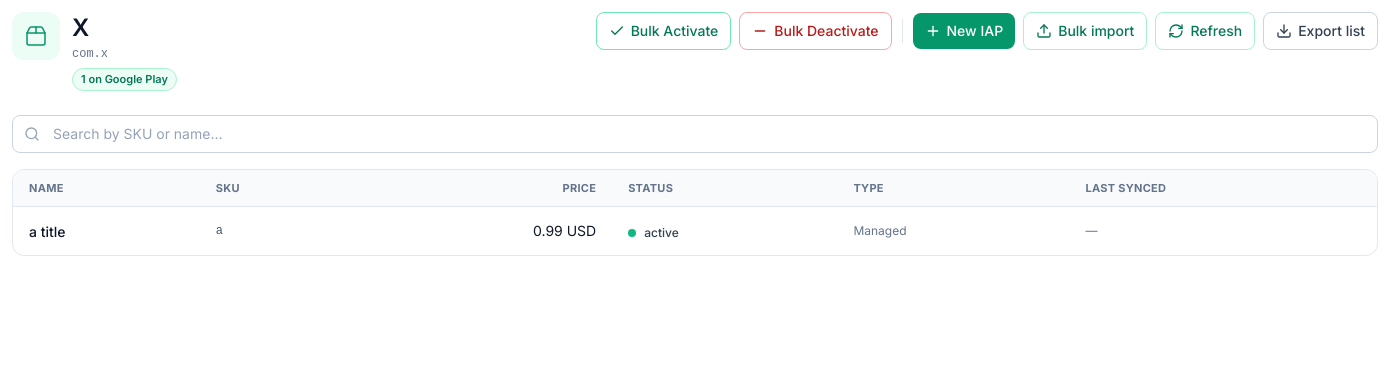
Test case: IapListClient — Refresh that did not count as complete › a complete refresh AFTER an incomplete one clears the old warning (no stale amber)
This screenshot has width=1390, height=381.
Click the button "Refresh" at (1205,31), box x1=1155 y1=12 x2=1255 y2=50
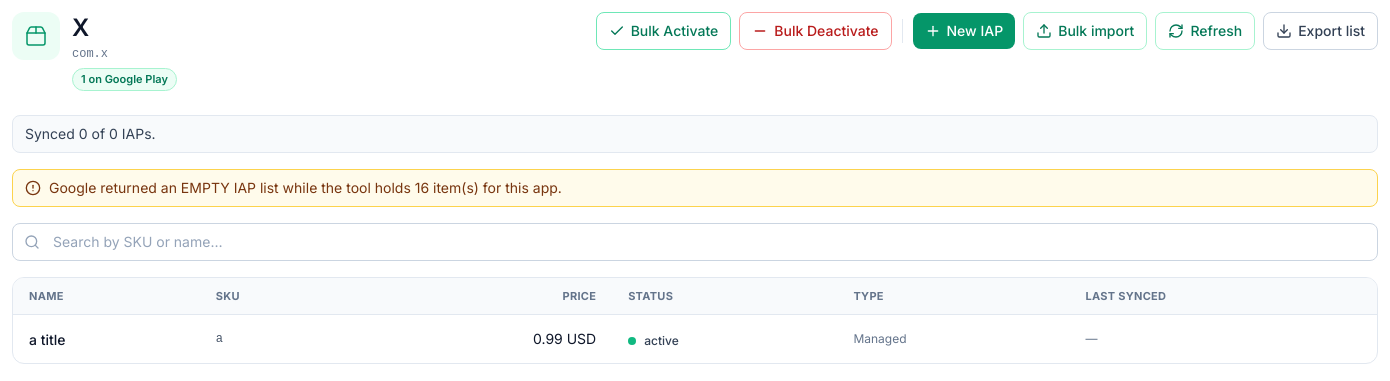
Check: the element with test id "refresh-mirror-warning" is shown, box x1=12 y1=168 x2=1378 y2=206
Click the button "Refresh" at (1205,31), box x1=1155 y1=12 x2=1255 y2=50
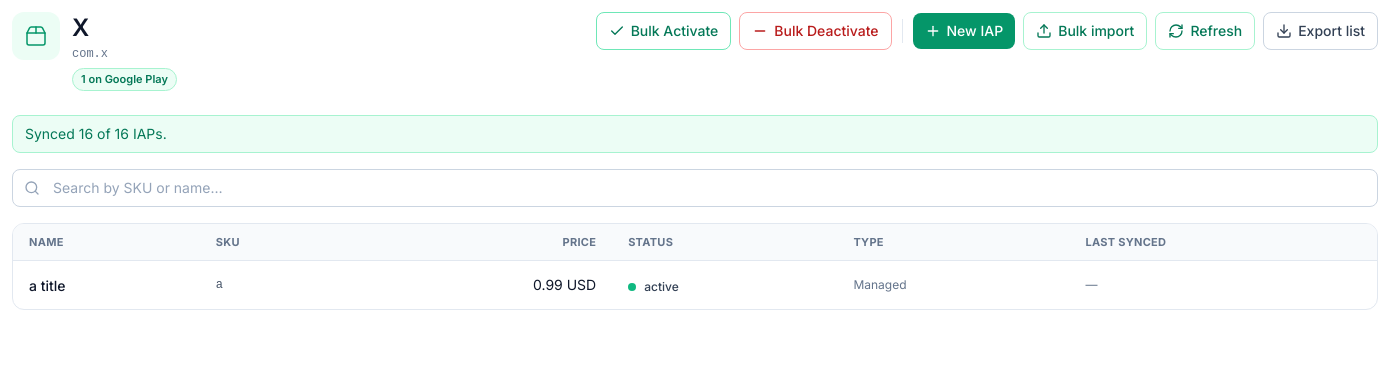
Check: the element with test id "refresh-mirror-warning" is gone
